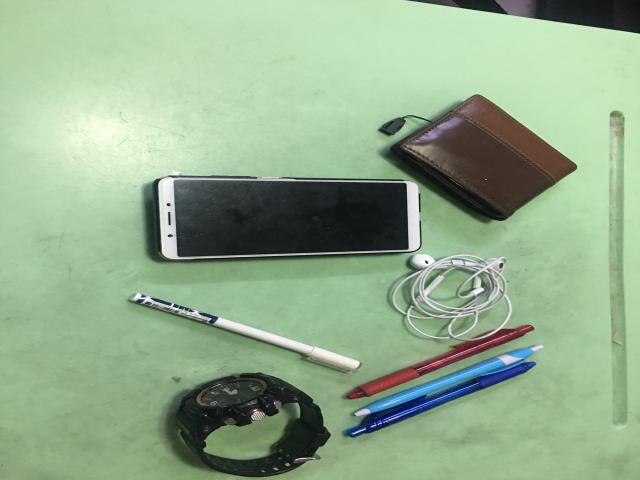Mobile phone: (155, 176, 420, 260)
Pen: (128, 293, 360, 372), (347, 362, 535, 437), (347, 325, 535, 399), (355, 357, 518, 415), (502, 348, 535, 359)
Wallet: (392, 95, 577, 220)
Watch: (177, 373, 330, 477)
wire: (390, 254, 512, 340)
